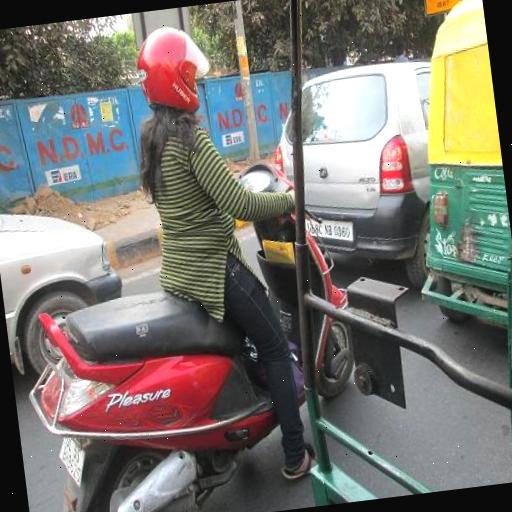helmet: (104, 5, 326, 497)
